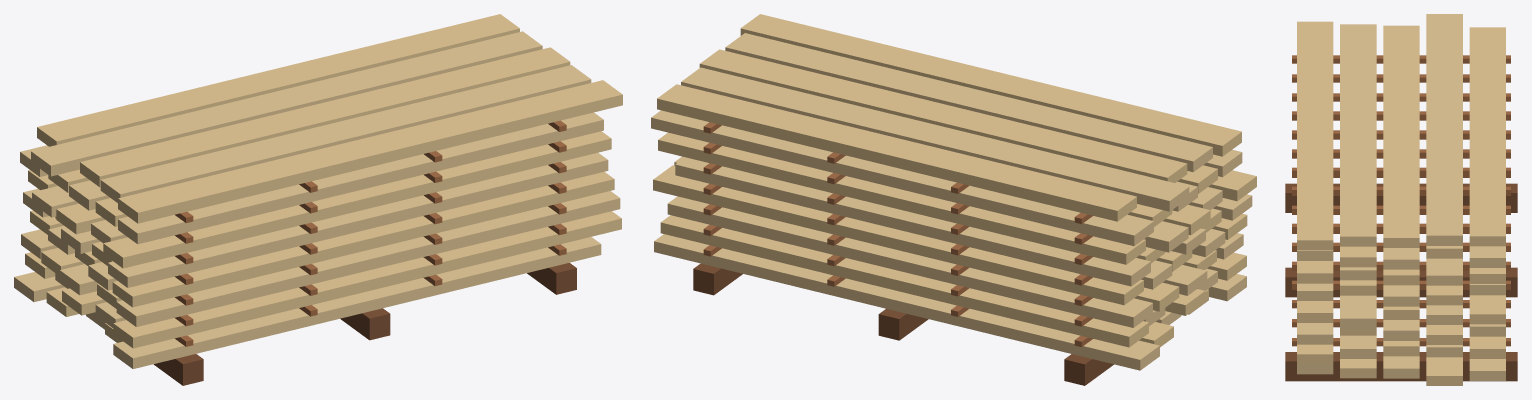
File: lumber_stack_green.glb
3 renders of one model, left to right at view 1: azimuth 30°, elevation 25°; view 2: azimuth 150°, elevation 25°; view 3: azimuth 270°, elevation 25°, orthographic. The views are drawn at different scales.
Parts seen in each view (by area): view 1: lumber_stack_green; view 2: lumber_stack_green; view 3: lumber_stack_green.
Part boxes in pixels (x1,y1,x2,y2): lumber_stack_green: (14,14,622,385); lumber_stack_green: (651,14,1256,385); lumber_stack_green: (1285,14,1517,385).
Bounding box in the file's own units: 4.89 × 1.64 × 2.1.
